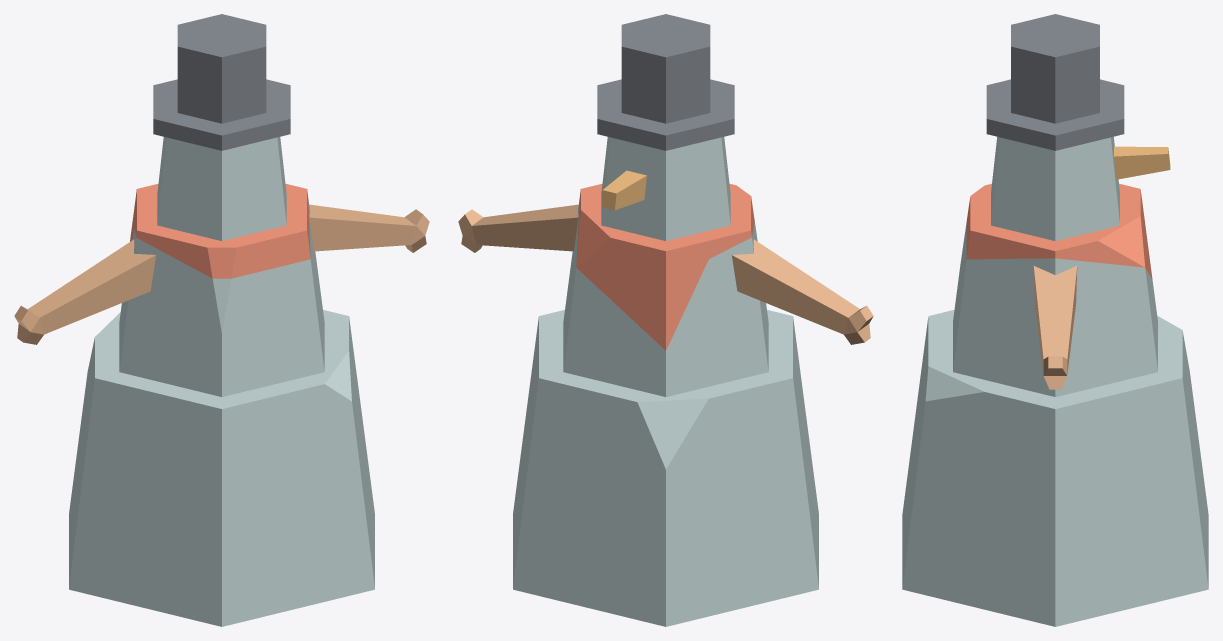
The model's file is snowmanFancy.glb.
The picture shows the model from 3 angles, left to right: view 1: azimuth 30°, elevation 25°; view 2: azimuth 150°, elevation 25°; view 3: azimuth 270°, elevation 25°; orthographic projection.
Parts seen in each view (by area): view 1: snowmanFancy; view 2: snowmanFancy; view 3: snowmanFancy.
Boxes of the visible parts, x1,y1,x2,y2 form: snowmanFancy: (14,14,429,626); snowmanFancy: (458,14,873,626); snowmanFancy: (902,14,1208,626).
Size of the model in its own units: 0.6935 by 0.8381 by 0.4503.
